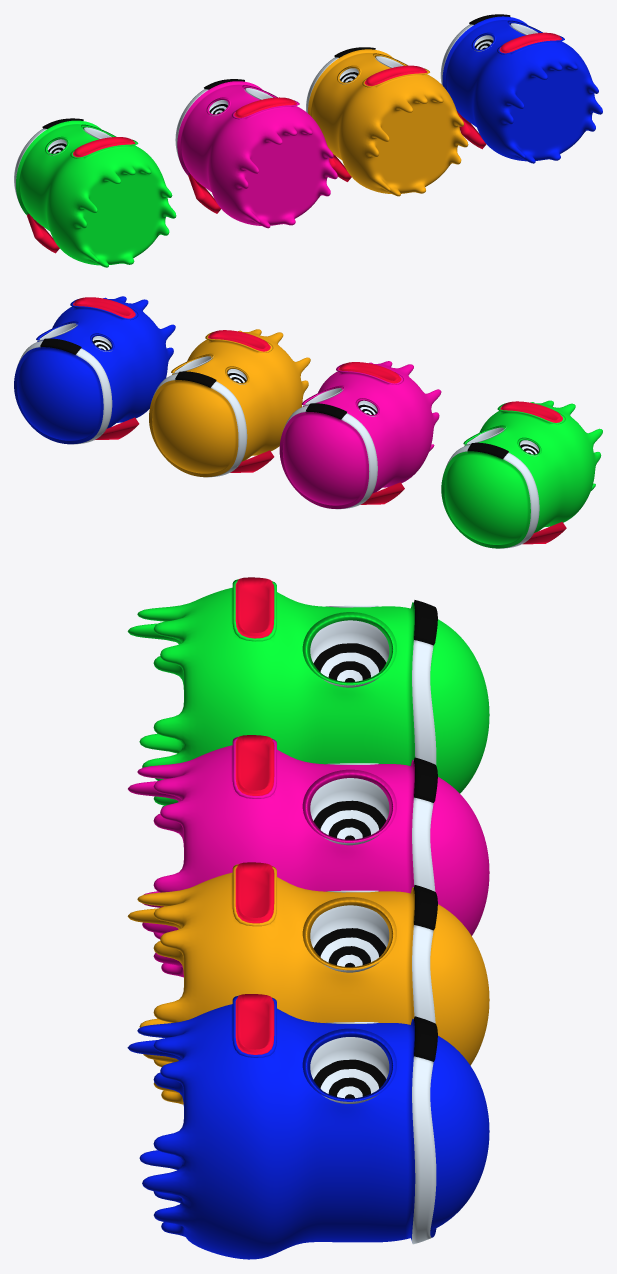
Rendered from fantasmas.fbx.
3 views of the same model, one above another, from view 1: azimuth 30°, elevation 25°; view 2: azimuth 150°, elevation 25°; view 3: azimuth 270°, elevation 25° (orthographic). The views are drawn at different scales.
Parts seen in each view (by area): view 1: Cube.002, Cube.004, Cube.003, Cube.001; view 2: Cube.004, Cube.002, Cube.003, Cube.001; view 3: Cube.003, Cube.004, Cube.001, Cube.002.
Boxes of the visible parts, left/top/right/bottom form: Cube.002: left=175, top=79, right=337, bottom=228; Cube.004: left=14, top=118, right=176, bottom=267; Cube.003: left=440, top=14, right=602, bottom=163; Cube.001: left=306, top=47, right=468, bottom=196; Cube.004: left=441, top=400, right=602, bottom=548; Cube.002: left=279, top=361, right=441, bottom=509; Cube.003: left=14, top=296, right=175, bottom=444; Cube.001: left=149, top=329, right=310, bottom=477; Cube.003: left=127, top=994, right=489, bottom=1259; Cube.004: left=127, top=577, right=489, bottom=807; Cube.001: left=127, top=862, right=489, bottom=1104; Cube.002: left=128, top=735, right=489, bottom=977.
Size of the model in its own units: 943 by 197 by 276.
